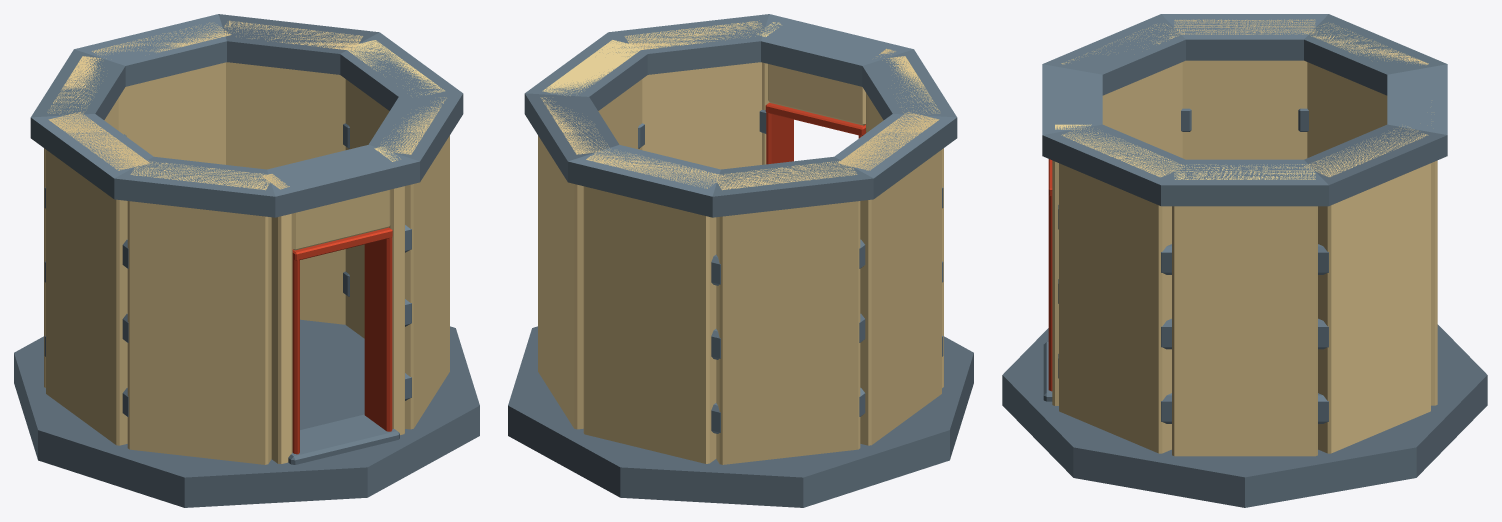
The model's file is EM_BeaconBase.fbx.
The picture shows the model from 3 angles, left to right: view 1: azimuth 30°, elevation 25°; view 2: azimuth 150°, elevation 25°; view 3: azimuth 270°, elevation 25°; orthographic projection.
Parts seen in each view (by area): view 1: EM_BeaconBase; view 2: EM_BeaconBase; view 3: EM_BeaconBase.
Part boxes in pixels (box(x1,y1,x2,y2)): EM_BeaconBase: box(14, 14, 479, 507); EM_BeaconBase: box(508, 14, 973, 507); EM_BeaconBase: box(1002, 14, 1487, 507).
Size of the model in its own units: 2.3 by 1.6 by 2.3.
